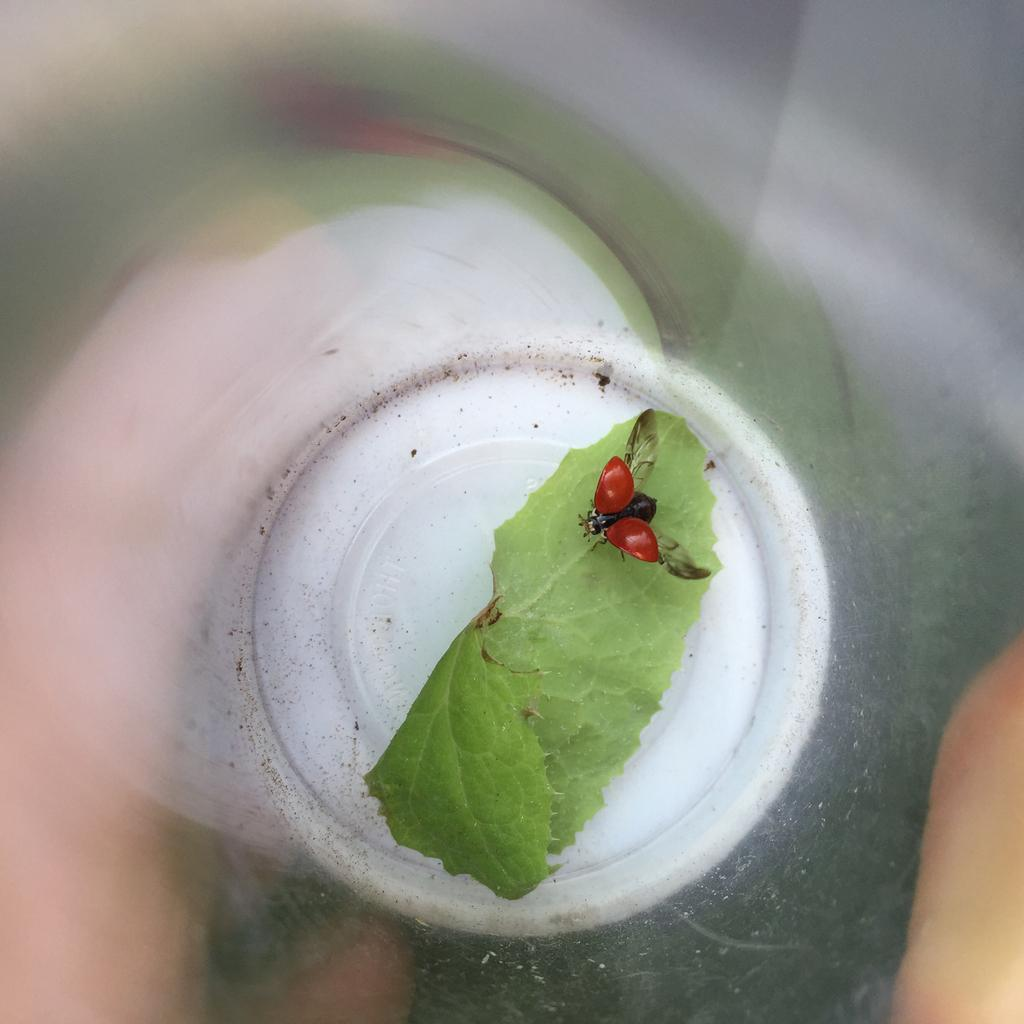ladybug: (576, 407, 716, 583)
